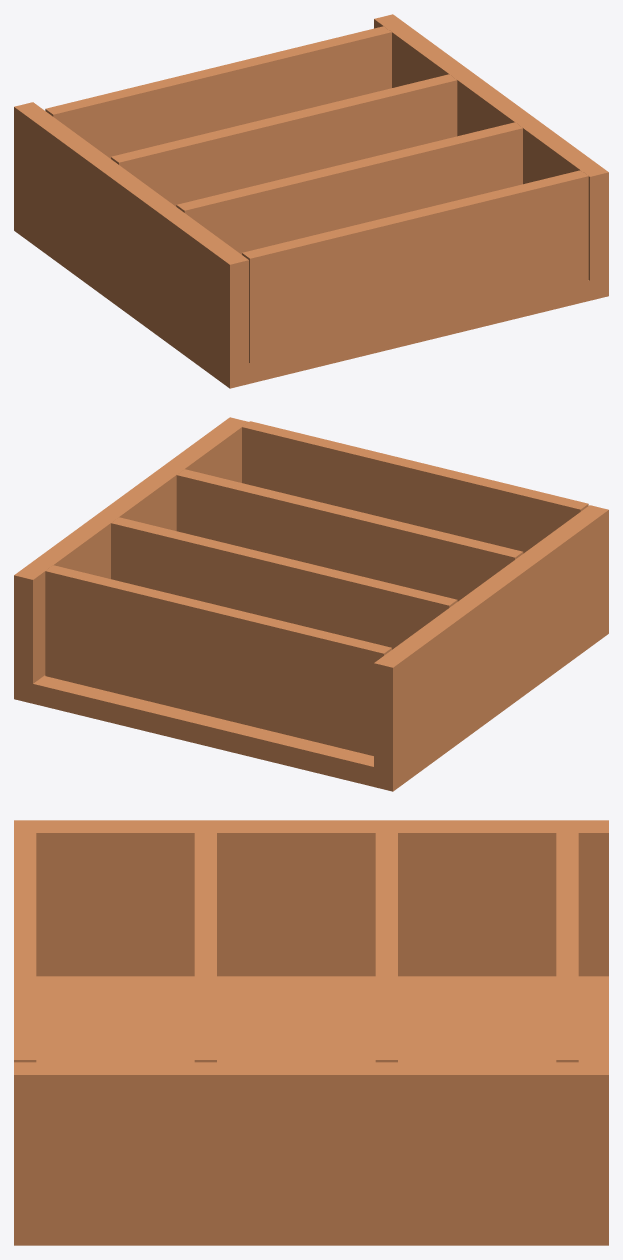
File: pantry_collision.obj
3 views of the same model, one above another, from view 1: azimuth 30°, elevation 25°; view 2: azimuth 150°, elevation 25°; view 3: azimuth 270°, elevation 25° (orthographic). The views are drawn at different scales.
Visible parts, largest first — view 1: bookcaseClosedWide.002_ID5.000, bookcaseClosedWide.002_ID5.005, bookcaseClosedWide.002_ID5.002, bookcaseClosedWide.002_ID5.003, bookcaseClosedWide.002_ID5.001, bookcaseClosedWide.002_ID5.004, bookcaseClosedWide.002_ID5.024; view 2: bookcaseClosedWide.002_ID5.003, bookcaseClosedWide.002_ID5.005, bookcaseClosedWide.002_ID5.001, bookcaseClosedWide.002_ID5.000, bookcaseClosedWide.002_ID5.002, bookcaseClosedWide.002_ID5.004, bookcaseClosedWide.002_ID5.024; view 3: bookcaseClosedWide.002_ID5.004, bookcaseClosedWide.002_ID5.005, bookcaseClosedWide.002_ID5.024, bookcaseClosedWide.002_ID5.003, bookcaseClosedWide.002_ID5.002, bookcaseClosedWide.002_ID5.001, bookcaseClosedWide.002_ID5.000.
Boxes of the visible parts, left/top/right/bottom form: bookcaseClosedWide.002_ID5.000: left=242, top=170, right=588, bottom=364; bookcaseClosedWide.002_ID5.005: left=14, top=102, right=248, bottom=388; bookcaseClosedWide.002_ID5.002: left=111, top=74, right=457, bottom=206; bookcaseClosedWide.002_ID5.003: left=45, top=26, right=391, bottom=158; bookcaseClosedWide.002_ID5.001: left=176, top=122, right=522, bottom=254; bookcaseClosedWide.002_ID5.004: left=374, top=14, right=608, bottom=300; bookcaseClosedWide.002_ID5.024: left=230, top=280, right=589, bottom=388; bookcaseClosedWide.002_ID5.003: left=45, top=565, right=391, bottom=755; bookcaseClosedWide.002_ID5.005: left=374, top=505, right=608, bottom=791; bookcaseClosedWide.002_ID5.001: left=176, top=469, right=523, bottom=601; bookcaseClosedWide.002_ID5.000: left=242, top=421, right=588, bottom=553; bookcaseClosedWide.002_ID5.002: left=111, top=517, right=457, bottom=649; bookcaseClosedWide.002_ID5.004: left=14, top=417, right=248, bottom=703; bookcaseClosedWide.002_ID5.024: left=14, top=675, right=392, bottom=791; bookcaseClosedWide.002_ID5.004: left=14, top=1062, right=608, bottom=1218; bookcaseClosedWide.002_ID5.005: left=14, top=820, right=608, bottom=976; bookcaseClosedWide.002_ID5.024: left=14, top=976, right=608, bottom=1245; bookcaseClosedWide.002_ID5.003: left=556, top=832, right=578, bottom=1062; bookcaseClosedWide.002_ID5.002: left=375, top=832, right=397, bottom=1062; bookcaseClosedWide.002_ID5.001: left=194, top=832, right=216, bottom=1062; bookcaseClosedWide.002_ID5.000: left=14, top=832, right=36, bottom=1062.
Size of the model in its own units: 2.13 by 0.67 by 2.1.
